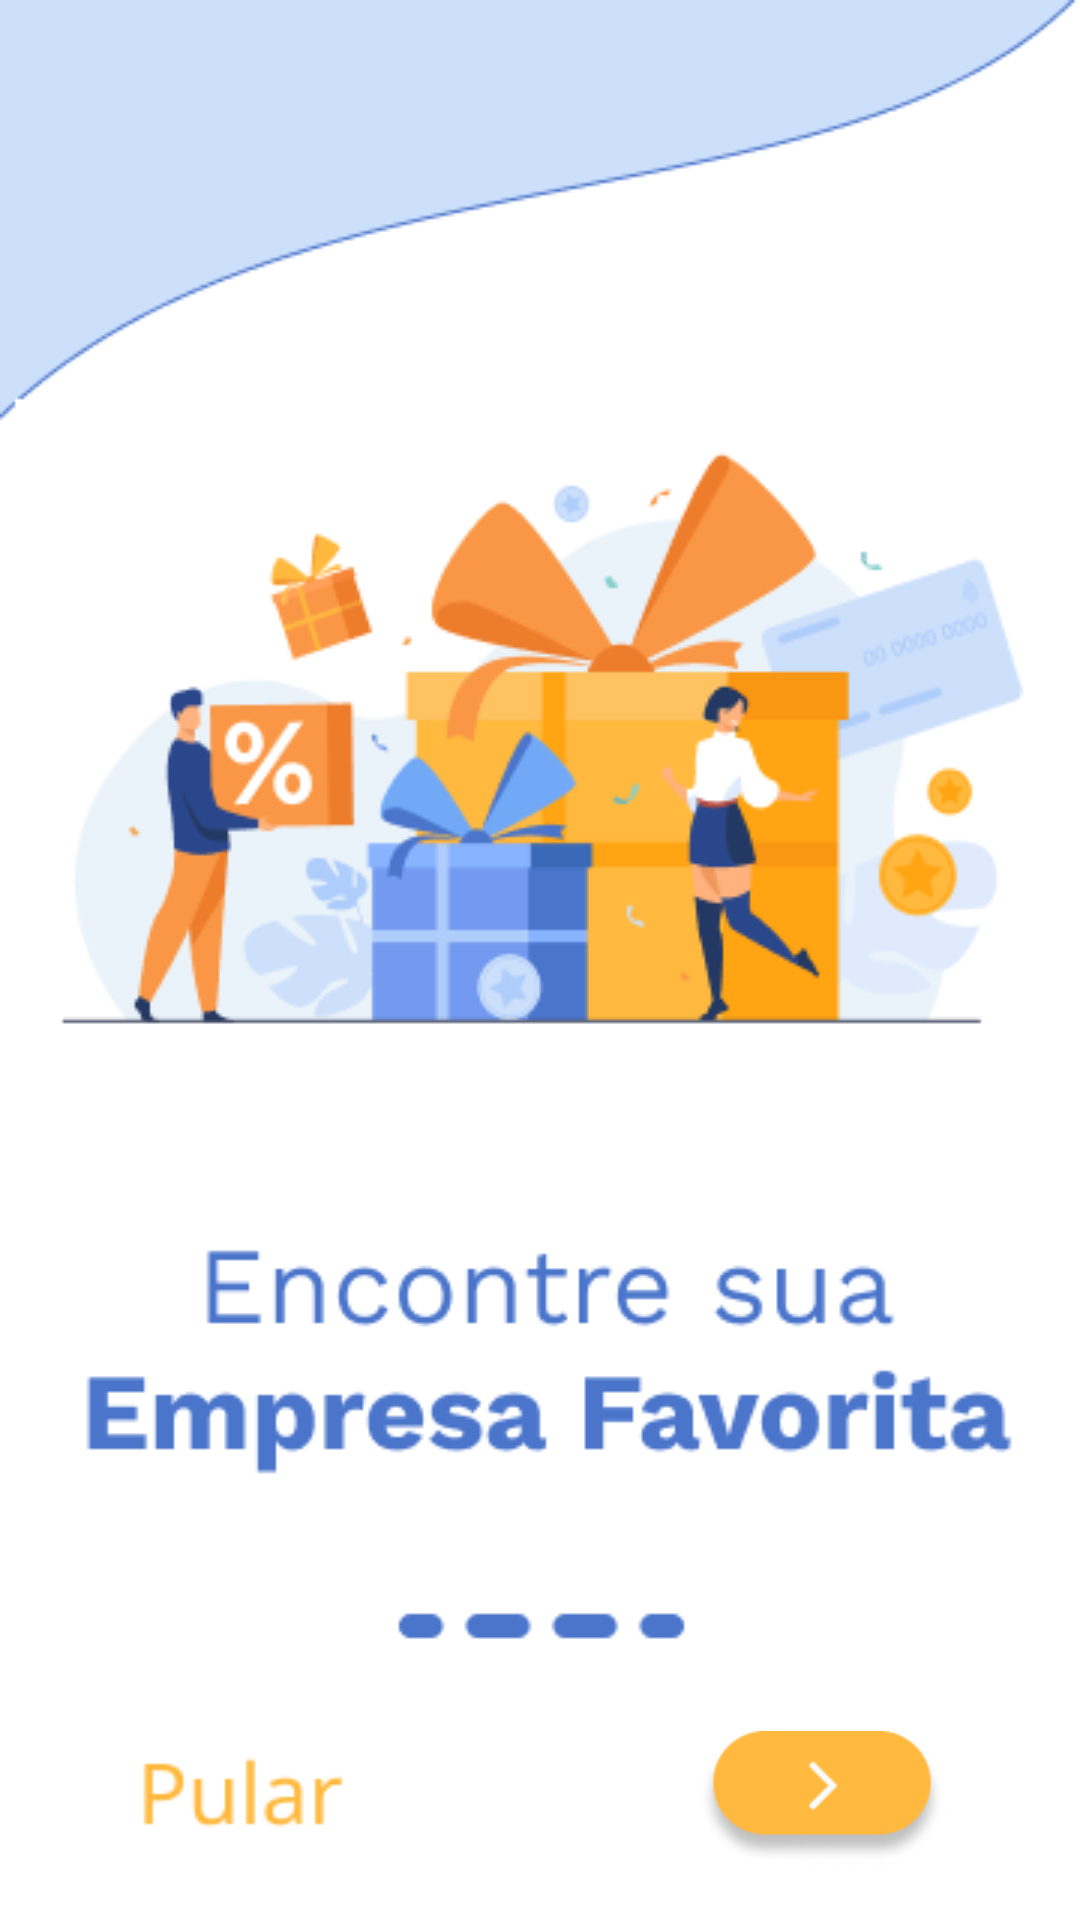

Where icons sit on this 1080x1920 app screen, as (x1, y1, x2, y2):
next: (712, 1731, 932, 1851)
